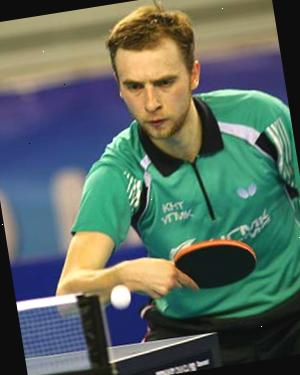ball: (104, 279, 134, 312)
